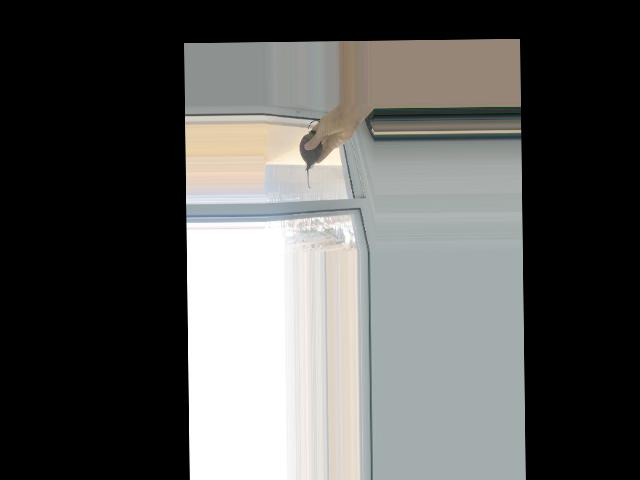beet: (299, 120, 329, 188)
